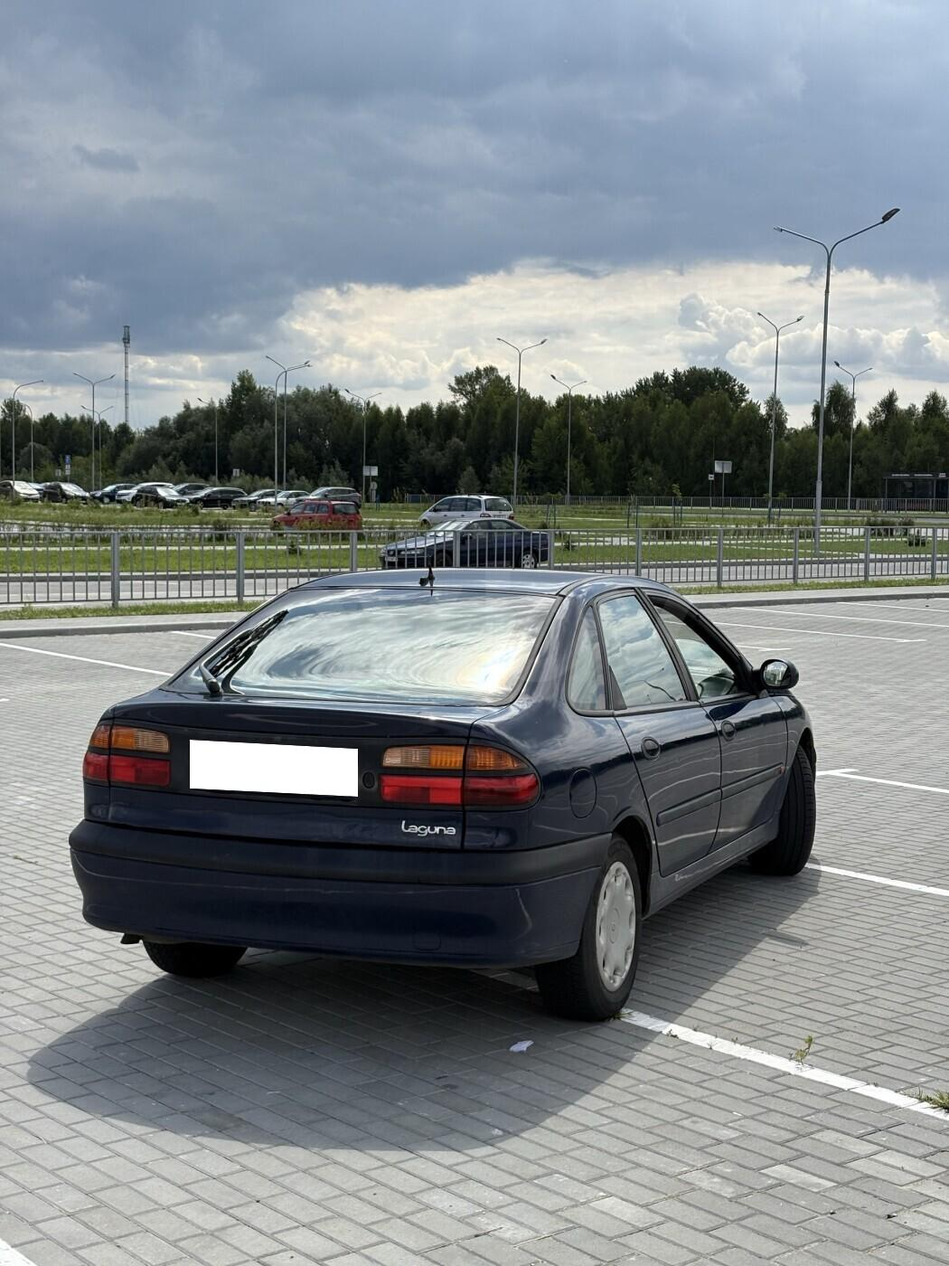Laguna_1998-2001: (58, 559, 822, 1035)
